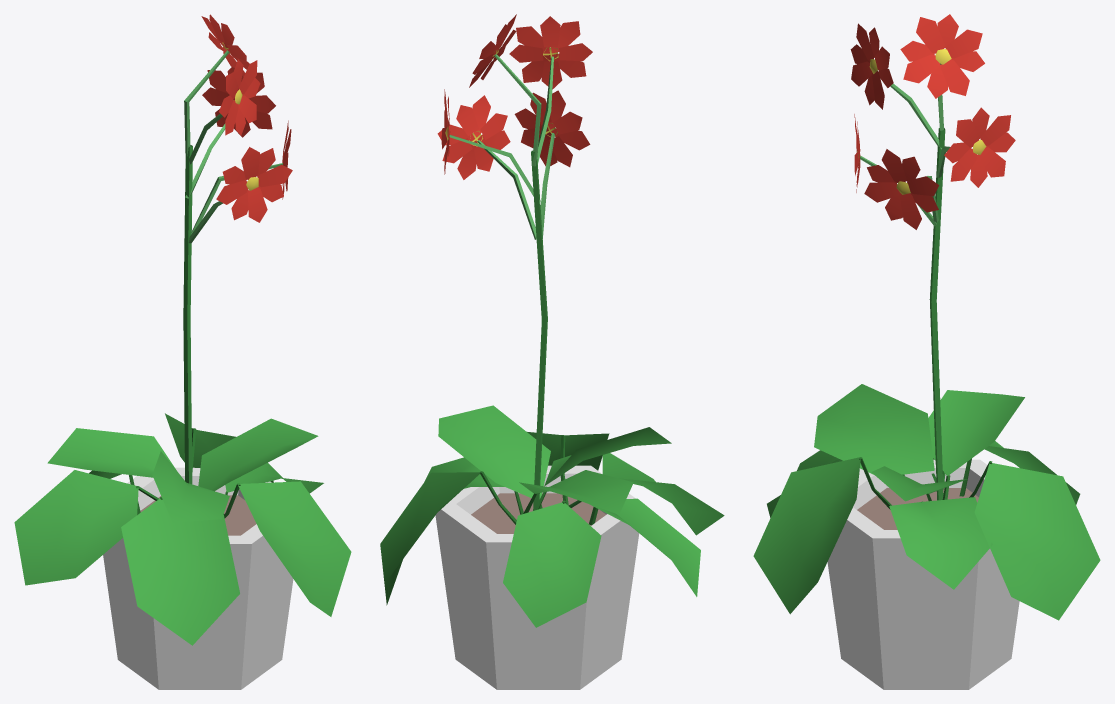
File: Plants_M8.fbx
3 views of the same model, side by side, from view 1: azimuth 30°, elevation 25°; view 2: azimuth 150°, elevation 25°; view 3: azimuth 270°, elevation 25° (orthographic). The views are drawn at different scales.
Visible parts, largest first — view 1: Plants_M8; view 2: Plants_M8; view 3: Plants_M8.
Part boxes in pixels (bbox=[...]): Plants_M8: bbox=[14, 14, 351, 689]; Plants_M8: bbox=[380, 14, 724, 689]; Plants_M8: bbox=[753, 14, 1100, 689].
Bounding box in the file's own units: 0.2495 × 0.5337 × 0.2561.
1 material, 1 textured.
